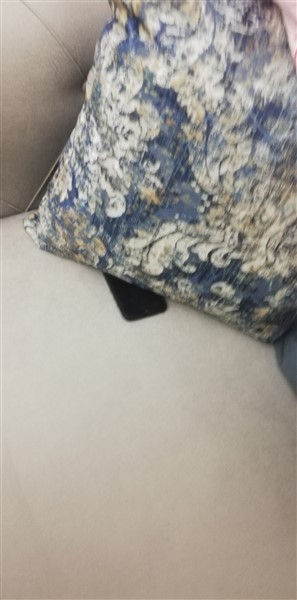telefon: (99, 268, 182, 326)
